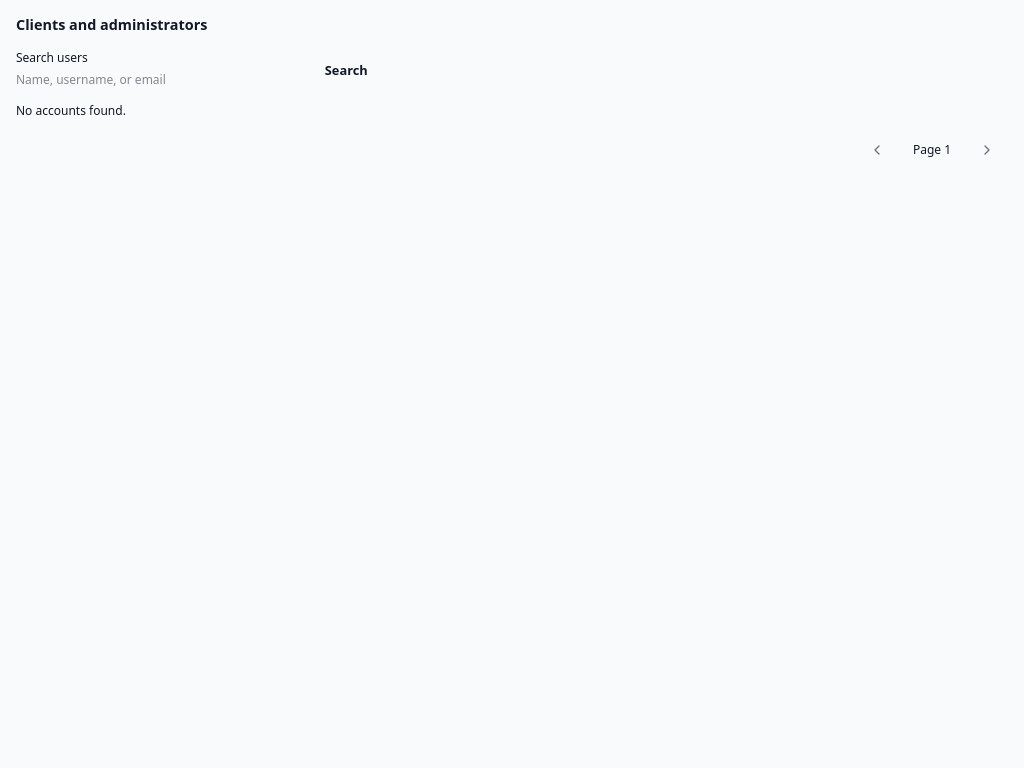
Scenario: searches all accounts on the server and keeps the filter after a role change
Check: the text "No accounts found." is shown, box [16,102,126,119]
Type "TAYLOR@EXAMPLE.TEST" into the search field labelled "Search users" at (160,80), box [16,71,304,89]
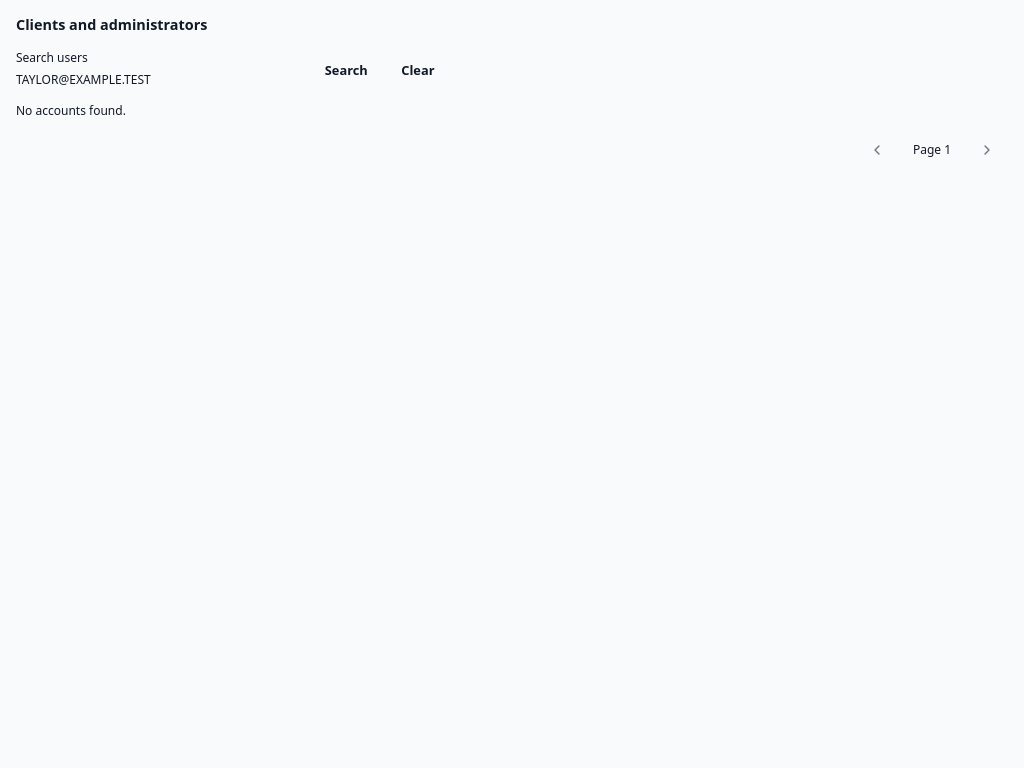
Click the button "Search" at (346,71), box [312,53,380,89]
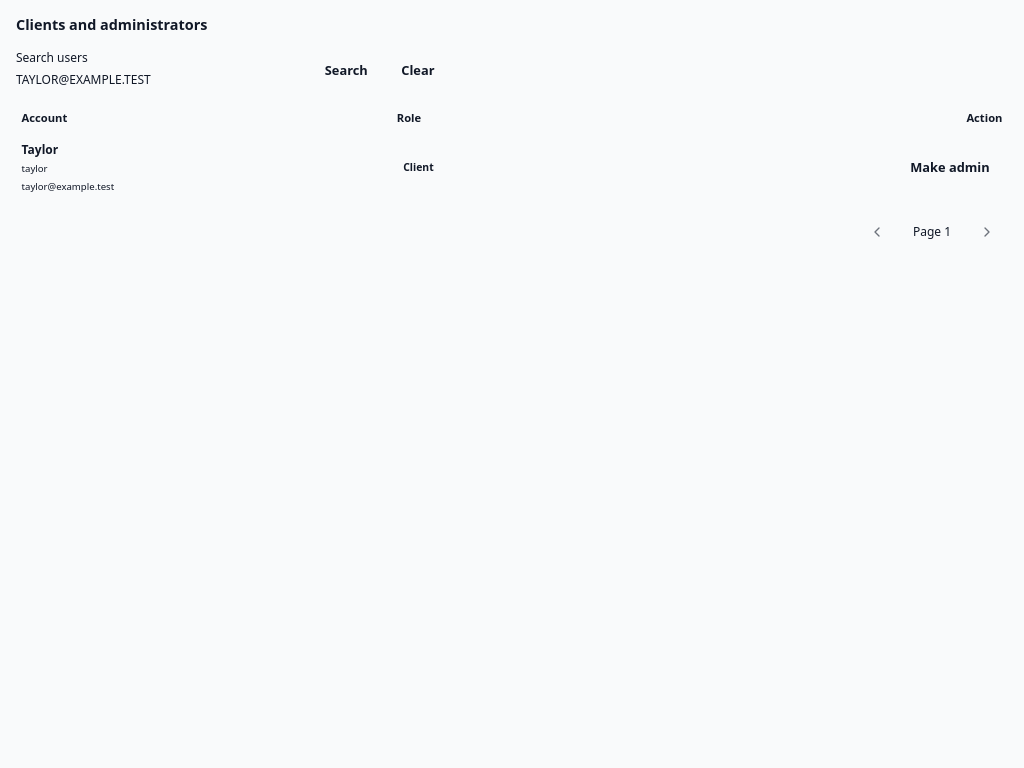
Check: the text "taylor@example.test" is shown, box [22,180,114,193]
Click the button "Make admin" at (950,168), box [898,150,1002,186]
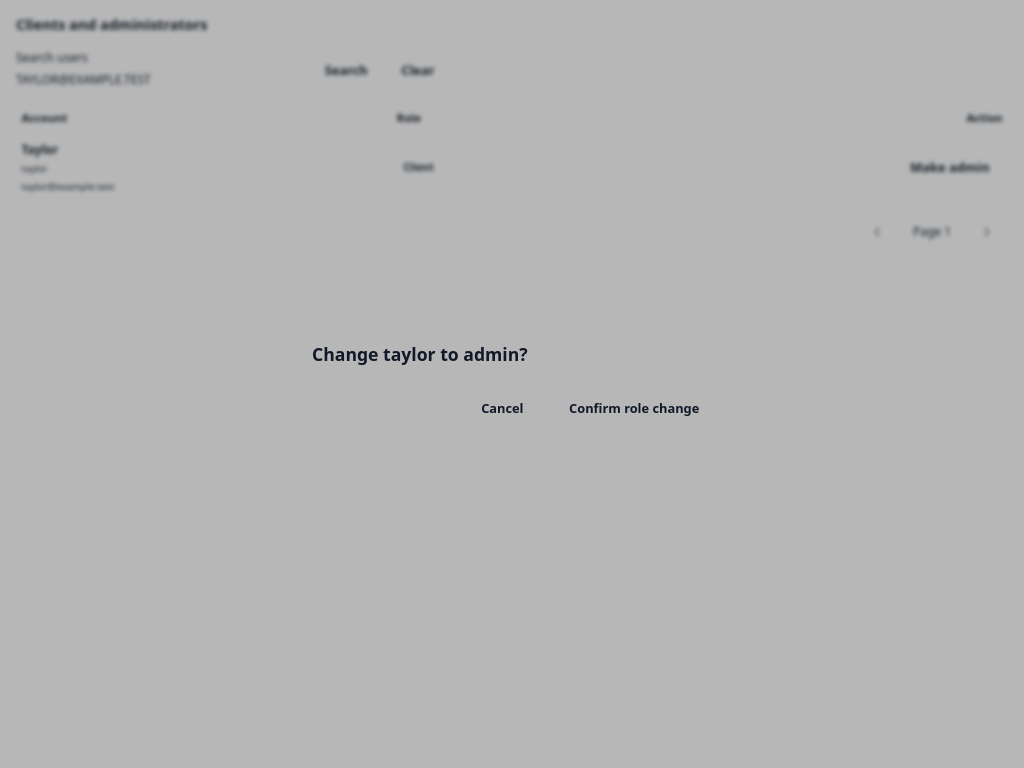
Click the button "Confirm role change" at (634,408), box [556,390,712,426]
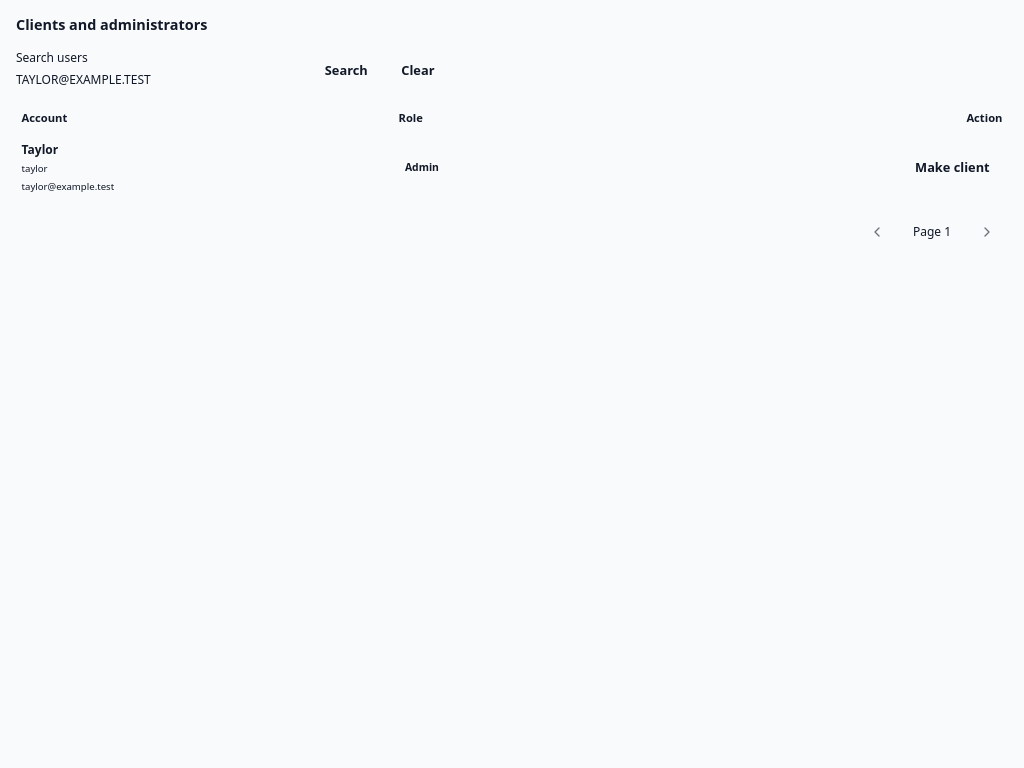
Check: the button "Make client" is shown, box [902,150,1002,186]
Click the button "Clear" at (418,71), box [388,53,447,89]
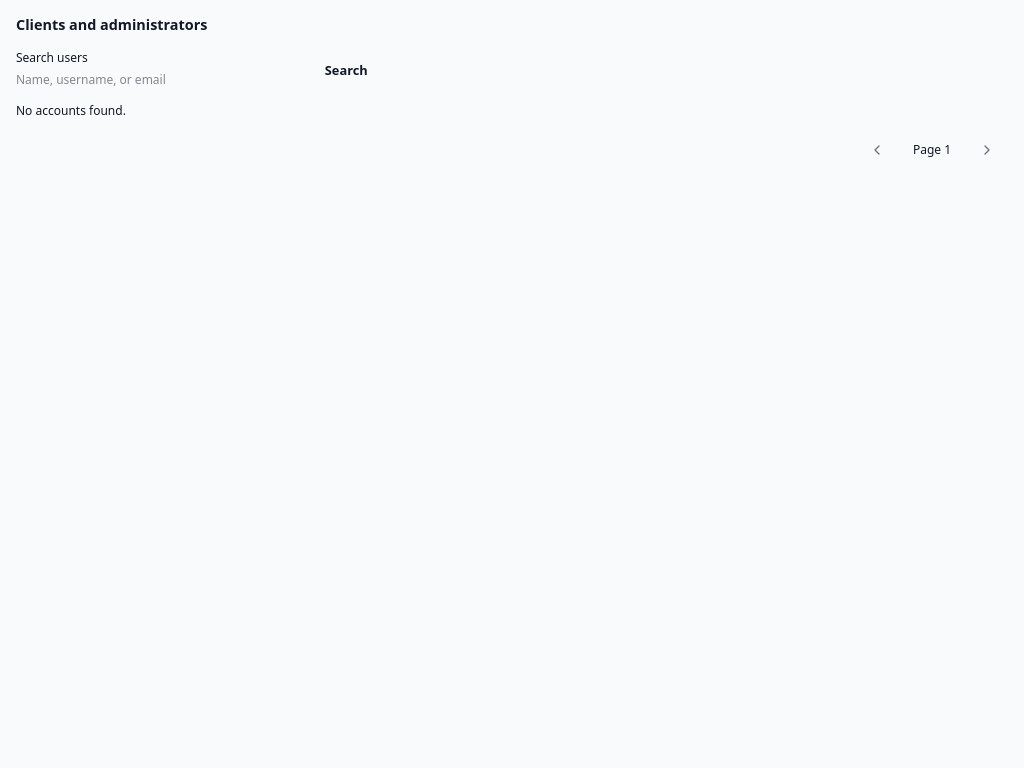
Check: the text "No accounts found." is shown, box [16,102,126,119]
